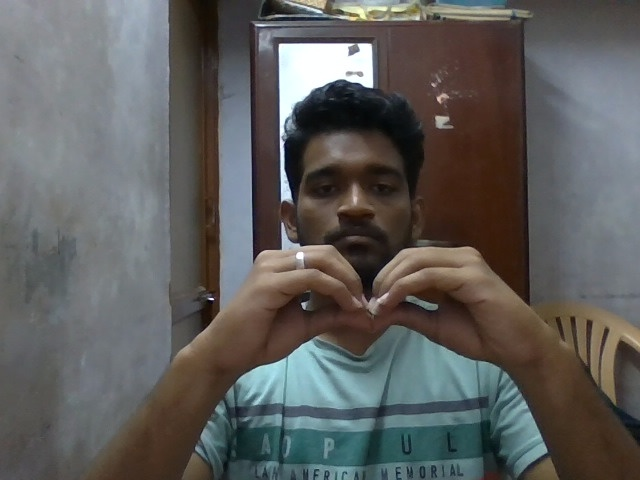B: (164, 241, 563, 395)
